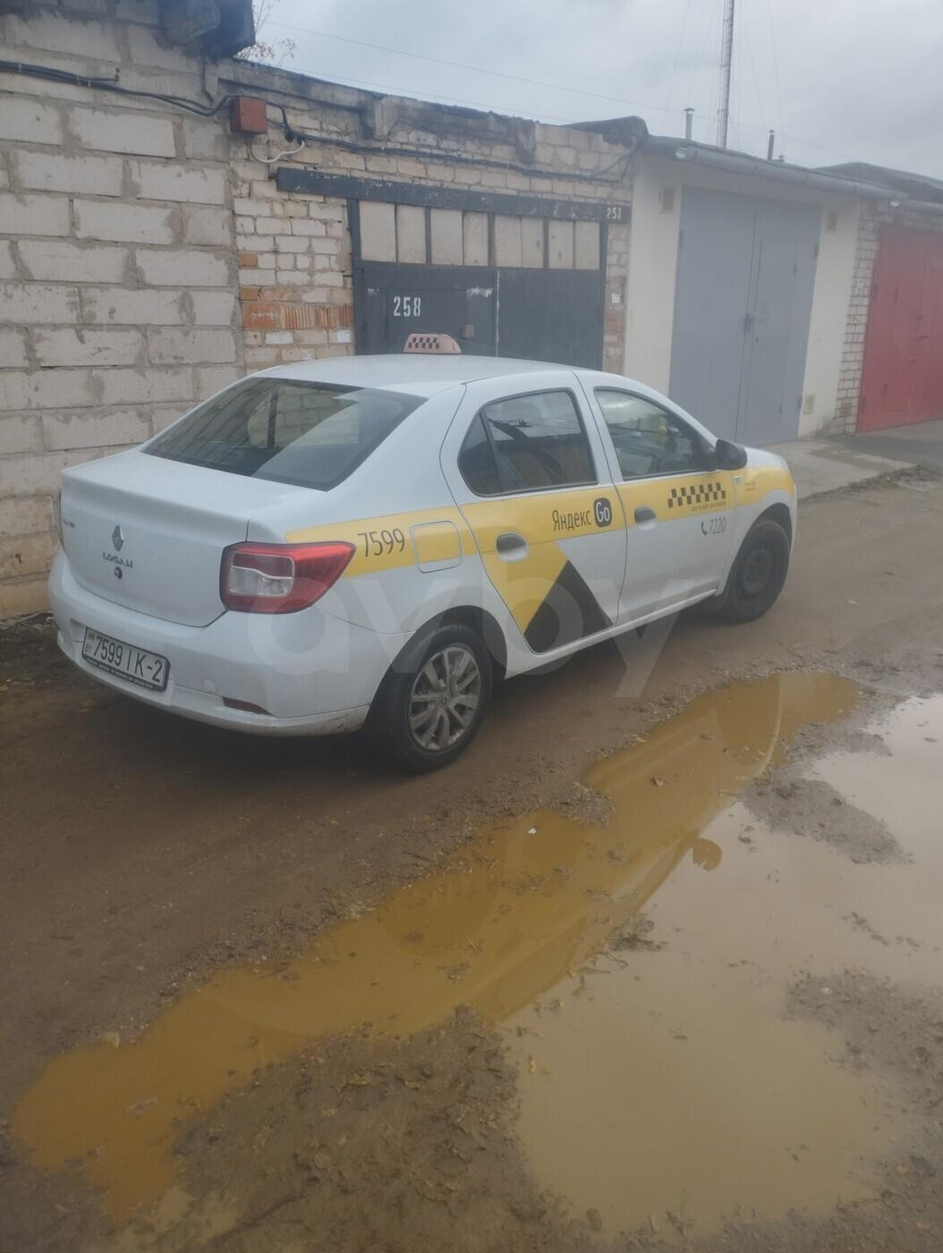Logan_2013-2018: (43, 353, 820, 780)
